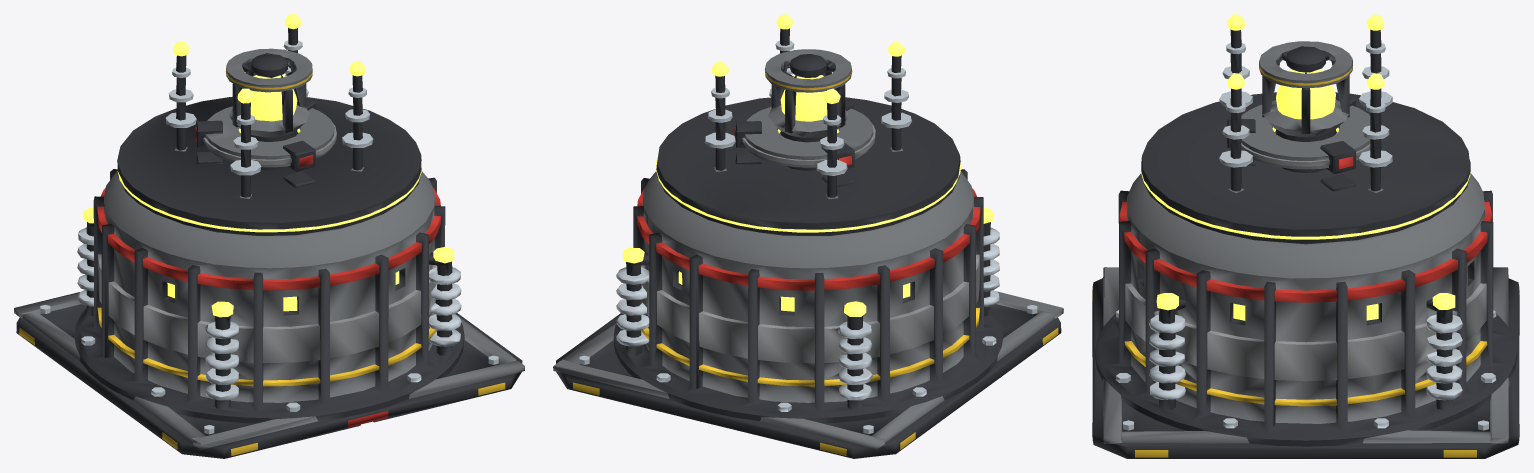
Rendered from R4W_EmpEmitter_LOD1.fbx.
3 renders of one model, left to right at view 1: azimuth 30°, elevation 25°; view 2: azimuth 150°, elevation 25°; view 3: azimuth 270°, elevation 25°, orthographic. The views are drawn at different scales.
Parts seen in each view (by area): view 1: R4W_EmpEmitter_Base_LOD1, R4W_EmpEmitter_Yaw_LOD1, R4W_EmpEmitter_ChargeRing_Upper_LOD1, R4W_EmpEmitter_Antenna_4_LOD1, R4W_EmpEmitter_Antenna_2_LOD1, R4W_EmpEmitter_Antenna_3_LOD1, R4W_EmpEmitter_ChargeRing_Lower_LOD1, R4W_EmpEmitter_Antenna_1_LOD1; view 2: R4W_EmpEmitter_Base_LOD1, R4W_EmpEmitter_Yaw_LOD1, R4W_EmpEmitter_ChargeRing_Upper_LOD1, R4W_EmpEmitter_Antenna_1_LOD1, R4W_EmpEmitter_Antenna_3_LOD1, R4W_EmpEmitter_Antenna_2_LOD1, R4W_EmpEmitter_Antenna_4_LOD1, R4W_EmpEmitter_ChargeRing_Lower_LOD1; view 3: R4W_EmpEmitter_Base_LOD1, R4W_EmpEmitter_Yaw_LOD1, R4W_EmpEmitter_ChargeRing_Upper_LOD1, R4W_EmpEmitter_Antenna_4_LOD1, R4W_EmpEmitter_Antenna_1_LOD1, R4W_EmpEmitter_Antenna_2_LOD1, R4W_EmpEmitter_Antenna_3_LOD1, R4W_EmpEmitter_ChargeRing_Lower_LOD1.
Boxes of the visible parts, x1,y1,x2,y2 form: R4W_EmpEmitter_Base_LOD1: [14, 97, 524, 458]; R4W_EmpEmitter_Yaw_LOD1: [225, 48, 312, 170]; R4W_EmpEmitter_ChargeRing_Upper_LOD1: [195, 99, 336, 171]; R4W_EmpEmitter_Antenna_4_LOD1: [342, 61, 373, 171]; R4W_EmpEmitter_Antenna_2_LOD1: [165, 41, 196, 151]; R4W_EmpEmitter_Antenna_3_LOD1: [230, 88, 261, 198]; R4W_EmpEmitter_ChargeRing_Lower_LOD1: [196, 152, 315, 187]; R4W_EmpEmitter_Antenna_1_LOD1: [283, 14, 308, 97]; R4W_EmpEmitter_Base_LOD1: [553, 97, 1063, 458]; R4W_EmpEmitter_Yaw_LOD1: [765, 49, 852, 170]; R4W_EmpEmitter_ChargeRing_Upper_LOD1: [734, 100, 875, 168]; R4W_EmpEmitter_Antenna_1_LOD1: [704, 61, 735, 171]; R4W_EmpEmitter_Antenna_3_LOD1: [881, 41, 912, 151]; R4W_EmpEmitter_Antenna_2_LOD1: [816, 88, 847, 199]; R4W_EmpEmitter_Antenna_4_LOD1: [769, 14, 794, 97]; R4W_EmpEmitter_ChargeRing_Lower_LOD1: [735, 152, 854, 187]; R4W_EmpEmitter_Base_LOD1: [1092, 92, 1519, 458]; R4W_EmpEmitter_Yaw_LOD1: [1259, 41, 1352, 172]; R4W_EmpEmitter_ChargeRing_Upper_LOD1: [1226, 93, 1370, 173]; R4W_EmpEmitter_Antenna_4_LOD1: [1219, 73, 1252, 193]; R4W_EmpEmitter_Antenna_1_LOD1: [1359, 73, 1392, 192]; R4W_EmpEmitter_Antenna_2_LOD1: [1359, 14, 1392, 123]; R4W_EmpEmitter_Antenna_3_LOD1: [1219, 14, 1252, 106]; R4W_EmpEmitter_ChargeRing_Lower_LOD1: [1247, 159, 1355, 191].
Bounding box in the file's own units: 0.5108 × 0.429 × 0.5108.
